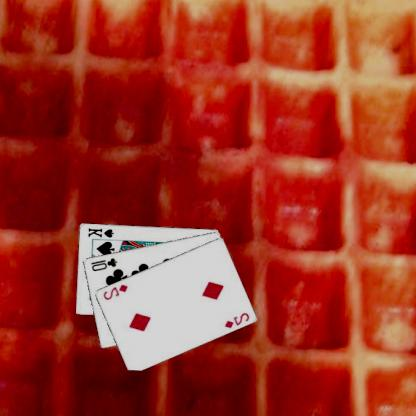10C: (90, 255, 119, 272)
2D: (102, 282, 131, 302), (223, 310, 252, 330)
KS: (86, 225, 116, 238)
